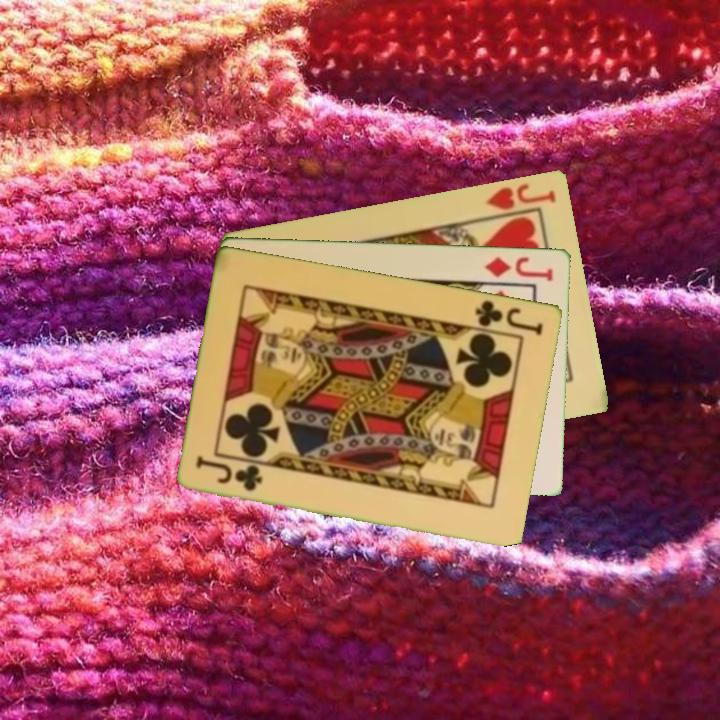Jc: (472, 296, 546, 338), (192, 453, 266, 494)
Jd: (482, 253, 556, 284)
Jh: (482, 179, 559, 213)
